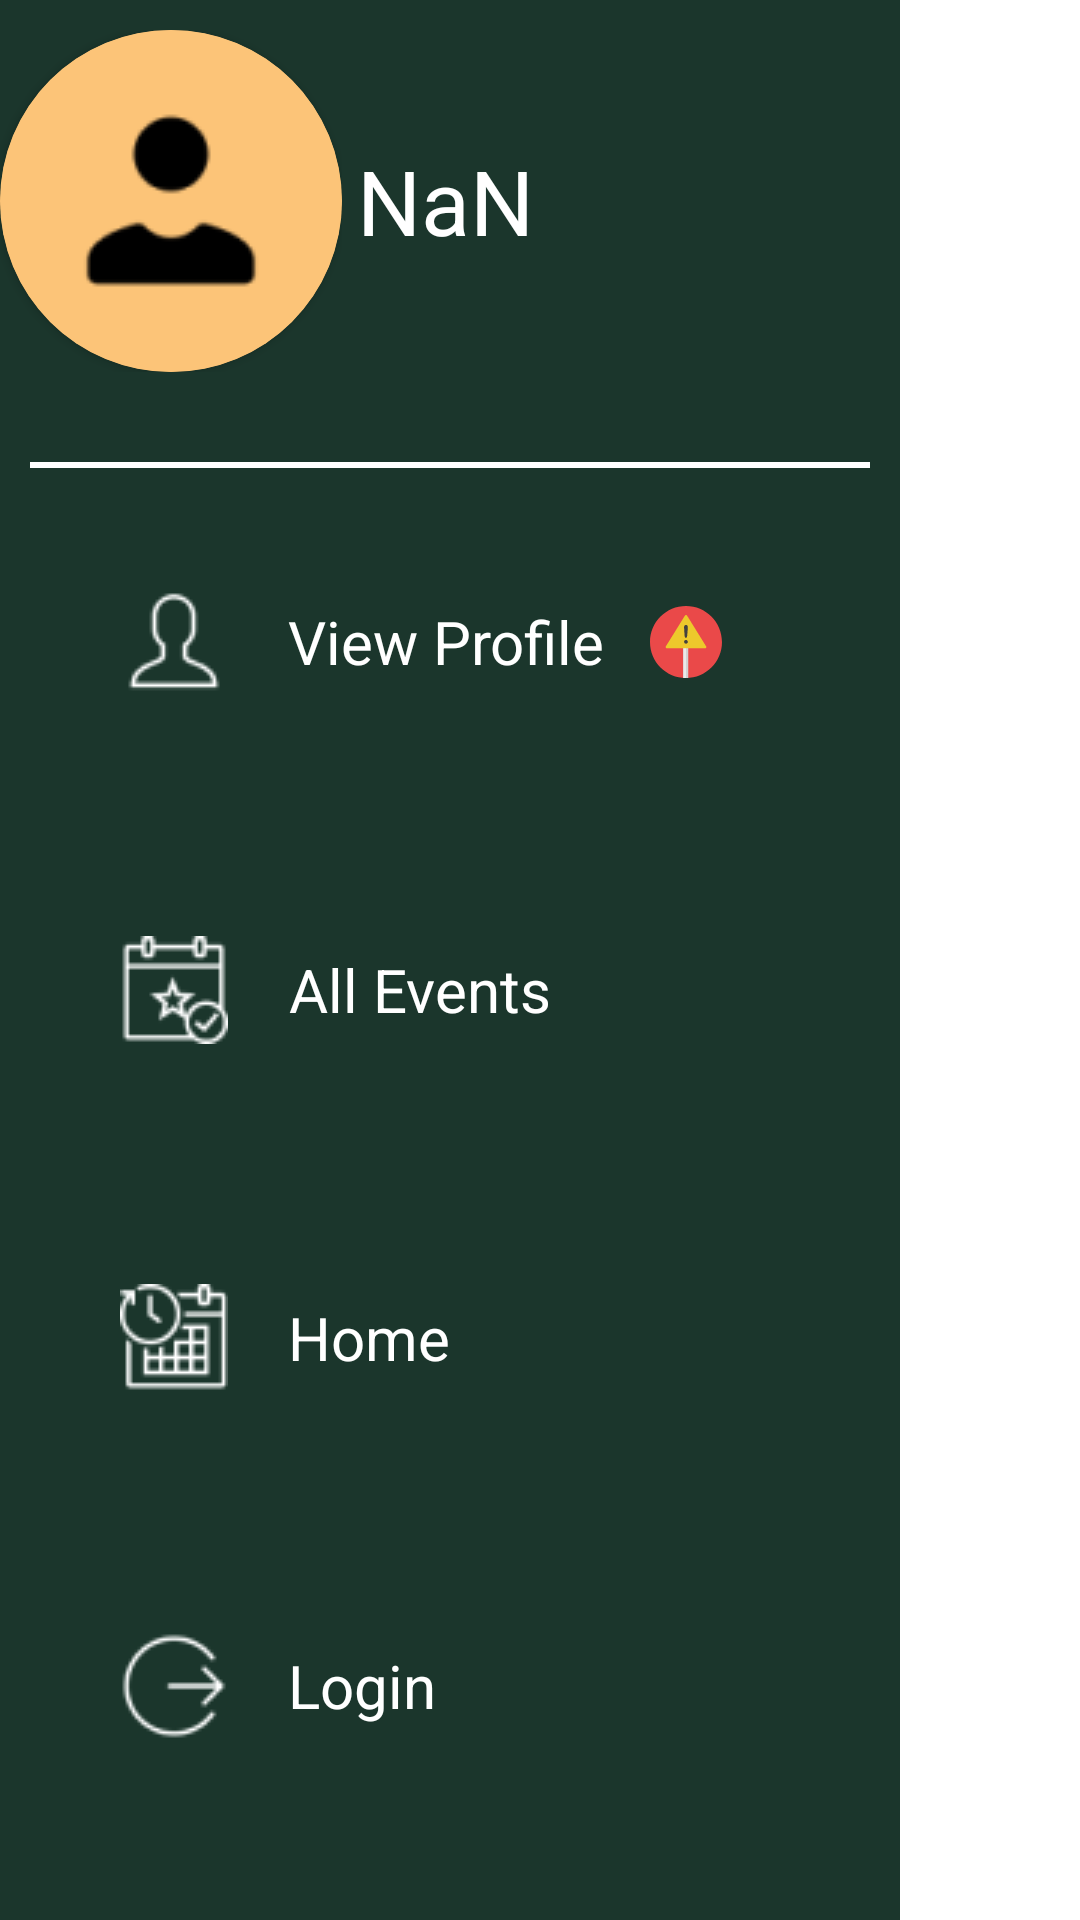

Locate icon controls on the screen. Image size 1080w x 1920h, boxes as [x1=x1, y1=y1, x2=x2, y2=y2].
accepted: [x1=122, y1=936, x2=228, y2=1044]
customer: [x1=128, y1=593, x2=220, y2=689]
profile: [x1=86, y1=115, x2=256, y2=287]
schedule: [x1=120, y1=1284, x2=228, y2=1390]
warning: [x1=650, y1=606, x2=722, y2=678]
